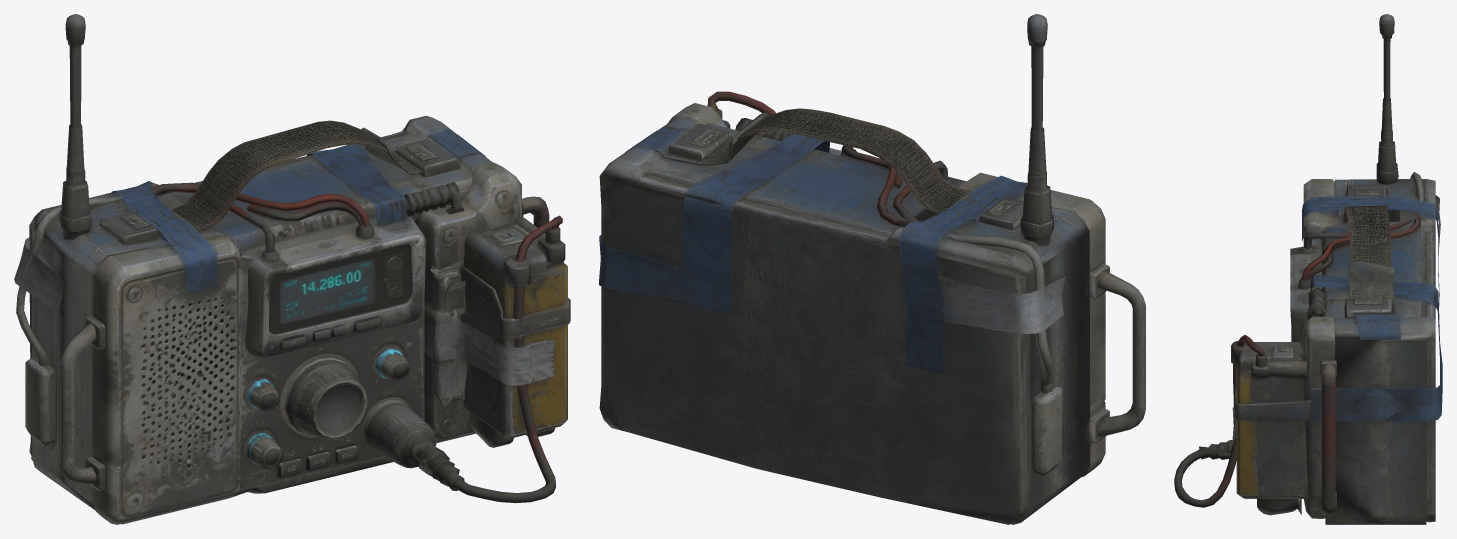
Rendered from fuzeball_radio.glb.
The picture shows the model from 3 angles, left to right: view 1: azimuth 30°, elevation 25°; view 2: azimuth 150°, elevation 25°; view 3: azimuth 270°, elevation 25°; orthographic projection. The views are drawn at different scales.
Visible parts, largest first — view 1: radio; view 2: radio; view 3: radio.
Part boxes in pixels (x1,y1,x2,y2): radio: (14, 14, 570, 524); radio: (599, 14, 1145, 524); radio: (1174, 14, 1442, 524).
Size of the model in its own units: 0.7996 by 0.7418 by 0.4895.
Materials: 1 (1 with a texture image).
